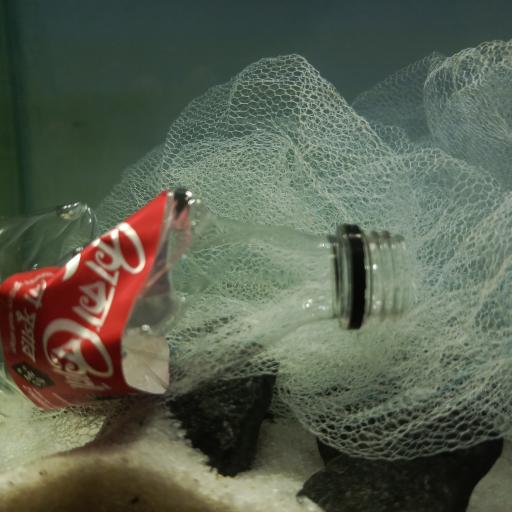net: (101, 40, 512, 461)
plastic_bottle: (0, 183, 412, 406)
